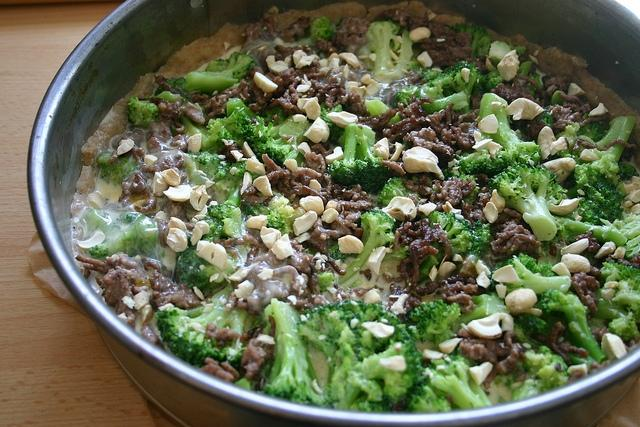broccoli: (256, 298, 333, 408), (156, 284, 250, 372), (455, 93, 541, 178), (555, 116, 636, 189), (488, 161, 556, 240), (328, 123, 398, 196), (542, 289, 606, 363), (362, 338, 428, 404), (340, 210, 396, 284), (242, 114, 312, 168), (354, 19, 414, 78), (182, 52, 258, 96), (428, 211, 494, 261), (498, 254, 571, 296), (430, 60, 484, 115), (420, 365, 487, 409), (408, 299, 462, 348), (578, 180, 624, 225), (443, 22, 491, 60), (196, 204, 242, 243), (220, 109, 250, 126)
